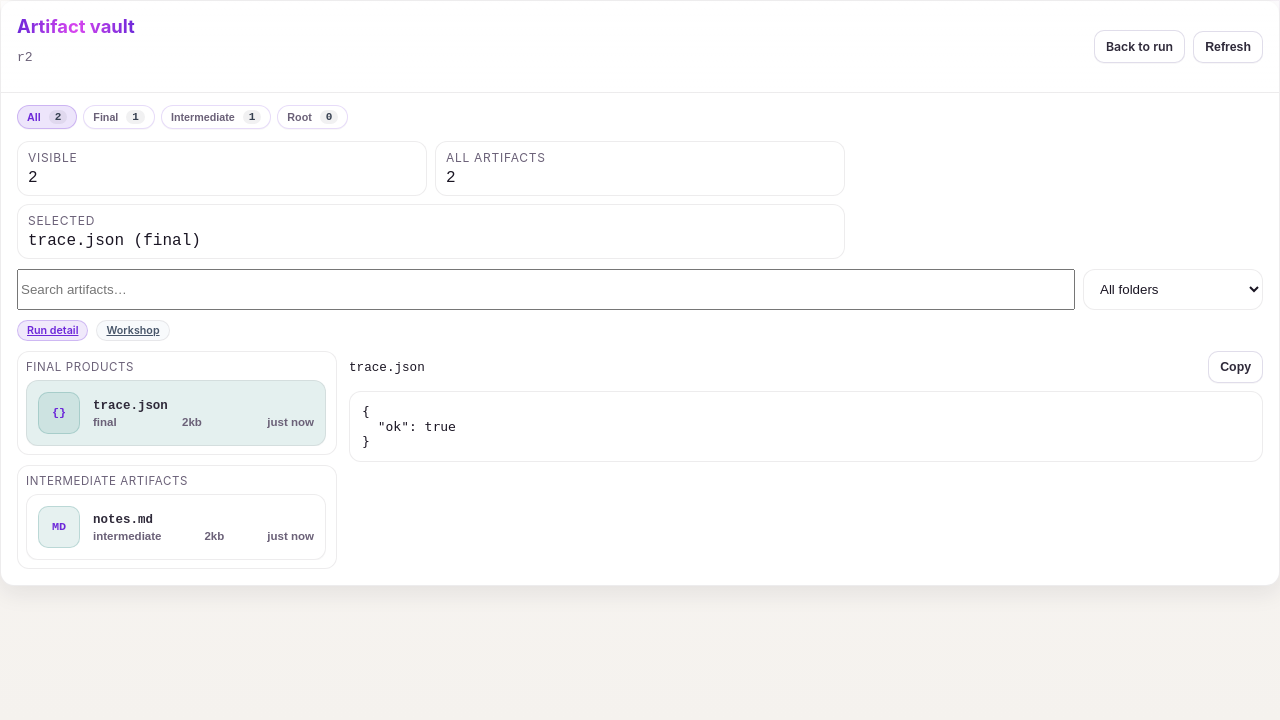
ArtifactVaultPage › filters artifacts by folder and query
The image size is (1280, 720).
Check: the text "trace.json" below "Final products" is shown, box [93,399,168,413]
Select "Final" in the dropdown named "Artifact vault folder filter" at (1173, 290), box [1083,269,1263,310]
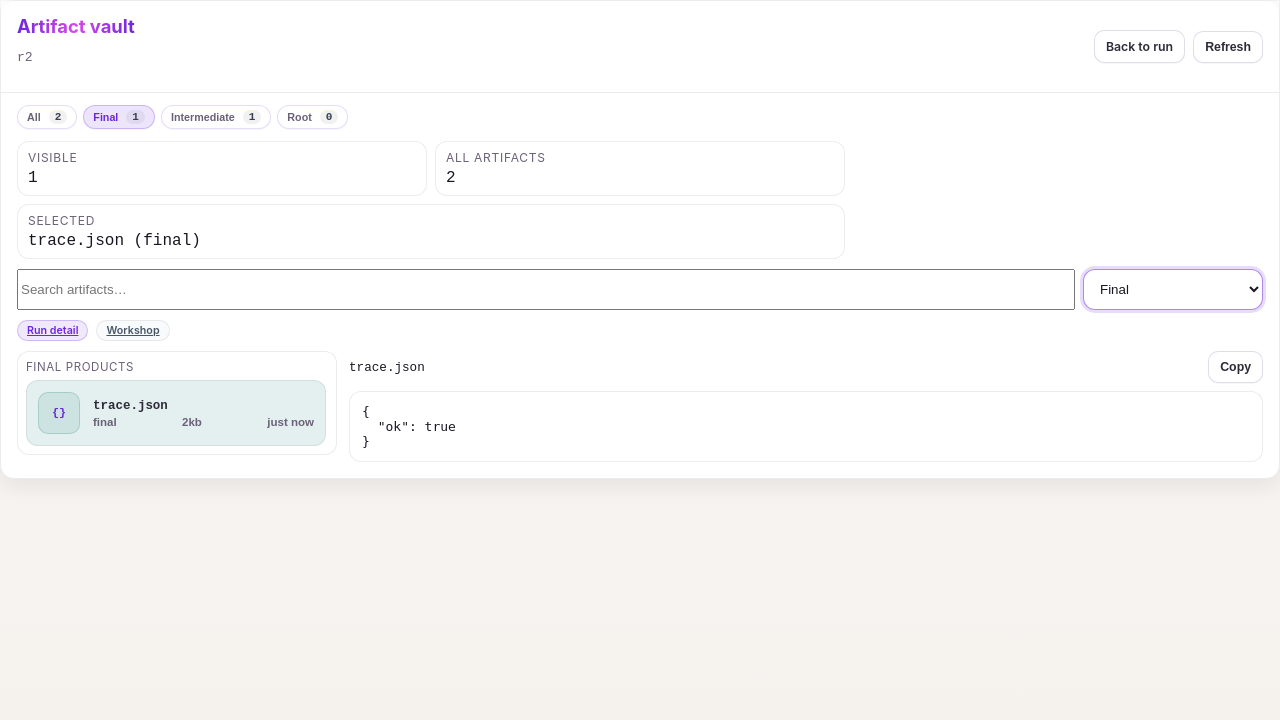
Check: the text "trace.json" below "Final products" is shown, box [93,399,168,413]
Check: the button "notes.md" is gone
Type "missing" into the field named "Artifact vault search" at (546, 290), box [17,269,1075,310]
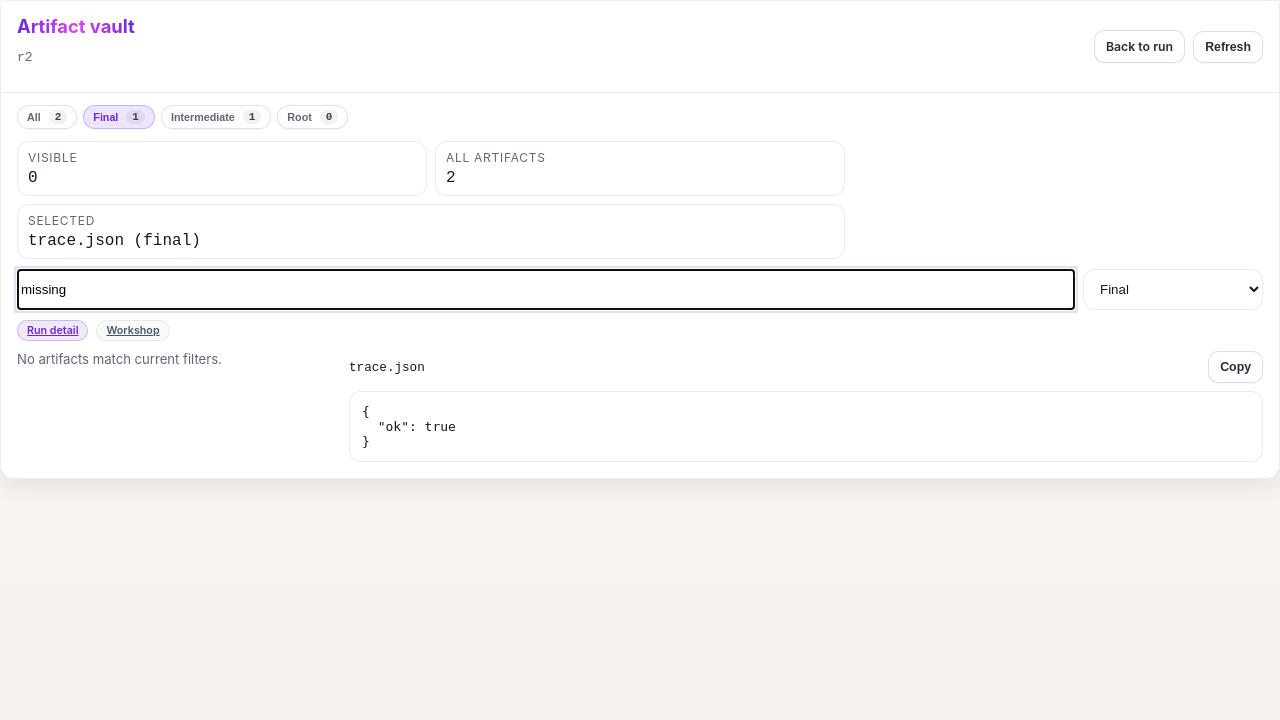
Check: the text "No artifacts match current filters." is shown, box [17,351,222,367]
